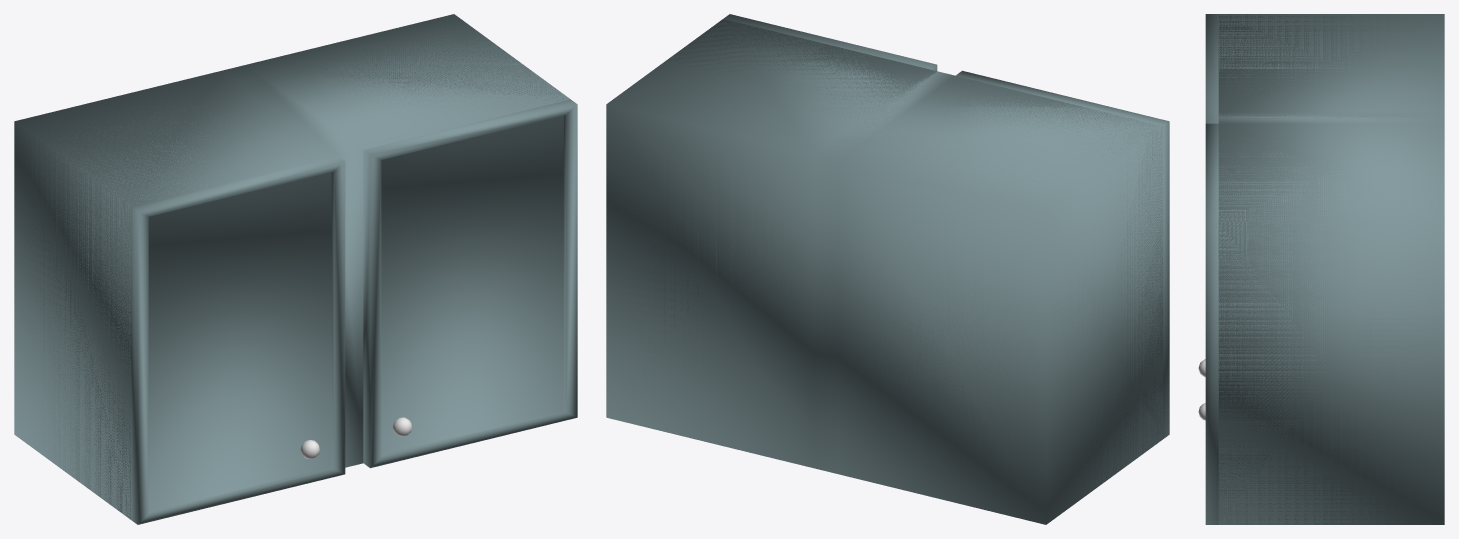
Rendered from Cupboard.glb.
3 views of the same model, side by side, from view 1: azimuth 30°, elevation 25°; view 2: azimuth 150°, elevation 25°; view 3: azimuth 270°, elevation 25° (orthographic). The views are drawn at different scales.
Visible parts, largest first — view 1: Icosphere; view 2: Icosphere; view 3: Icosphere.
Part boxes in pixels (x1=…): Icosphere: x1=14, y1=14, x2=577, y2=524; Icosphere: x1=606, y1=14, x2=1169, y2=524; Icosphere: x1=1198, y1=14, x2=1444, y2=524.
Bounding box in the file's own units: 2 × 1.36 × 1.
